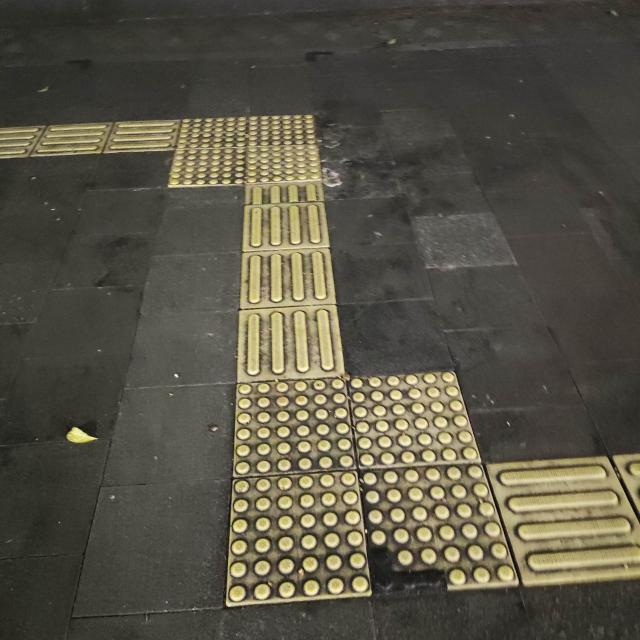kiri: (42, 89, 384, 229)
